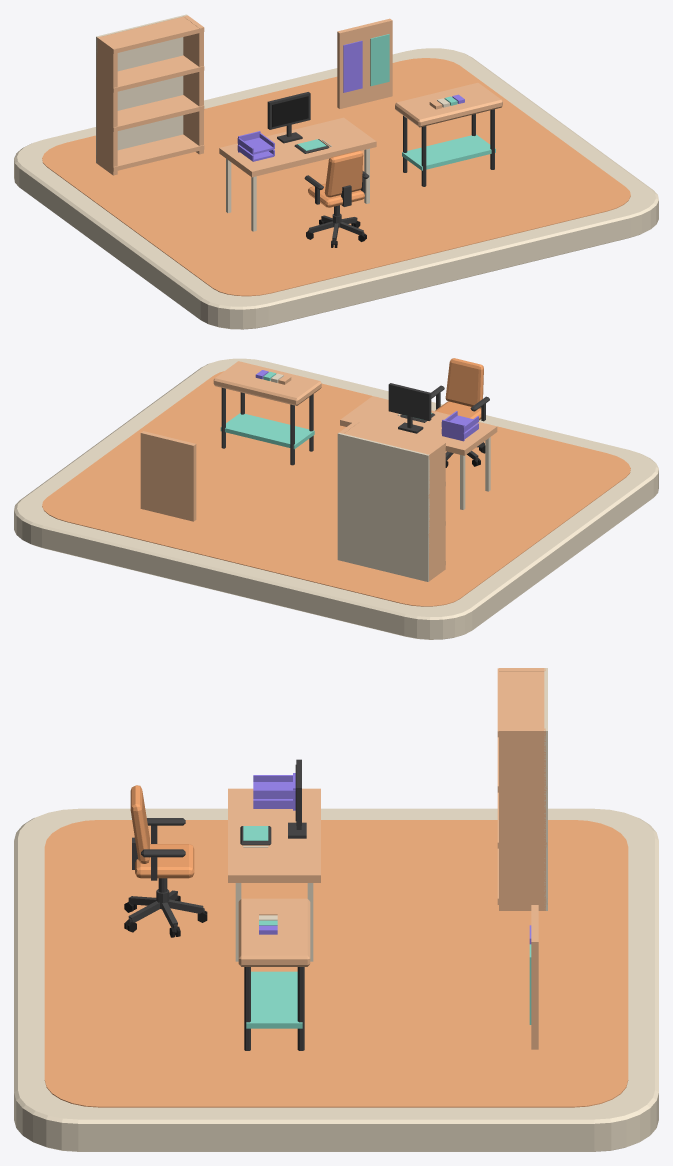
Rendered from room.fbx.
The picture shows the model from 3 angles, top to bottom: view 1: azimuth 30°, elevation 25°; view 2: azimuth 150°, elevation 25°; view 3: azimuth 270°, elevation 25°; orthographic projection. The views are drawn at different scales.
Parts seen in each view (by area): view 1: COM-02 Floor Surface, COM-01 Rounded Base Direct, Top, Back, COM-04_Chair_blender_direct, Side, Design board, Worktop, Side.001, Shelf.003, Lower shelf, Shelf.001 (+5 smaller); view 2: COM-02 Floor Surface, COM-01 Rounded Base Direct, Back, Design board, Top, COM-04_Chair_blender_direct, Worktop, Side, Lower shelf, Frame, Shelf.003; view 3: COM-02 Floor Surface, COM-01 Rounded Base Direct, Side.001, Top, COM-04_Chair_blender_direct, Worktop, Shelf.003, Lower shelf, Design board, Back, Frame.
Part boxes in pixels (x1=…): COM-02 Floor Surface: x1=42, y1=58, x2=630, y2=296; COM-01 Rounded Base Direct: x1=14, y1=48, x2=658, y2=329; Top: x1=219, y1=117, x2=376, y2=231; Back: x1=96, y1=14, x2=187, y2=162; COM-04_Chair_blender_direct: x1=304, y1=150, x2=369, y2=247; Side: x1=96, y1=36, x2=117, y2=175; Design board: x1=337, y1=18, x2=392, y2=108; Worktop: x1=395, y1=82, x2=502, y2=127; Side.001: x1=183, y1=15, x2=203, y2=154; Shelf.003: x1=102, y1=16, x2=204, y2=53; Lower shelf: x1=402, y1=134, x2=495, y2=170; Shelf.001: x1=109, y1=95, x2=204, y2=131; COM-02 Floor Surface: x1=42, y1=371, x2=630, y2=606; COM-01 Rounded Base Direct: x1=14, y1=358, x2=658, y2=639; Back: x1=337, y1=432, x2=429, y2=581; Design board: x1=140, y1=431, x2=196, y2=521; Top: x1=340, y1=396, x2=497, y2=509; COM-04_Chair_blender_direct: x1=431, y1=358, x2=489, y2=467; Worktop: x1=213, y1=361, x2=321, y2=405; Side: x1=425, y1=442, x2=445, y2=581; Lower shelf: x1=220, y1=413, x2=314, y2=449; Frame: x1=388, y1=383, x2=431, y2=433; Shelf.003: x1=344, y1=421, x2=445, y2=459; COM-02 Floor Surface: x1=44, y1=820, x2=628, y2=1107; COM-01 Rounded Base Direct: x1=14, y1=808, x2=658, y2=1151; Side.001: x1=499, y1=728, x2=545, y2=910; Top: x1=228, y1=788, x2=320, y2=961; COM-04_Chair_blender_direct: x1=124, y1=785, x2=207, y2=937; Worktop: x1=238, y1=898, x2=310, y2=966; Shelf.003: x1=497, y1=668, x2=544, y2=737; Lower shelf: x1=246, y1=971, x2=302, y2=1028; Design board: x1=531, y1=905, x2=538, y2=1049; Back: x1=544, y1=668, x2=547, y2=910; Frame: x1=288, y1=759, x2=306, y2=838.
Bounding box in the file's own units: 600 × 190 × 520.
